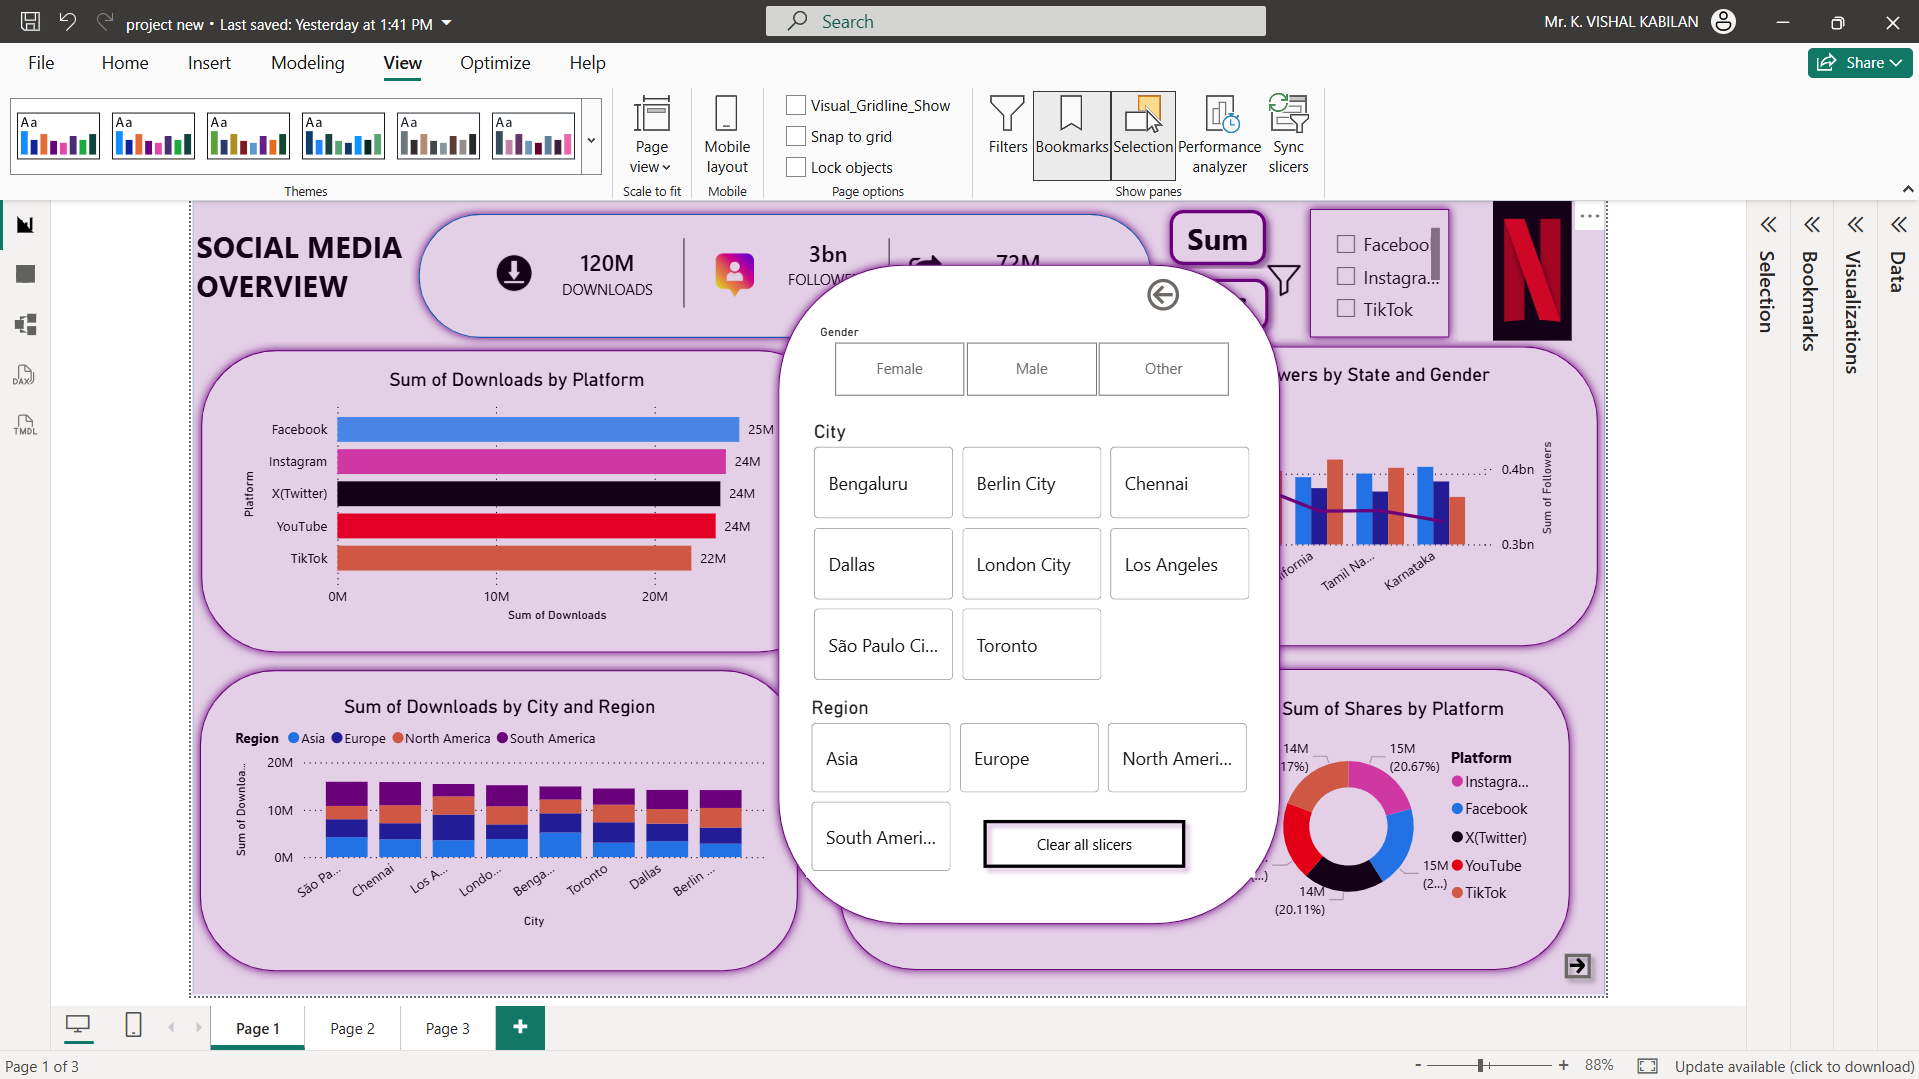

The dashboard page shown, as its layout file describes it:
{"tool":"powerbi","page":{"name":"Page 1","canvas":[1280,720],"ordinal":0},"visuals":[{"type":"shape","box":[1003.9,0,142.2,132.5],"z":0},{"type":"cardVisual","title":"sum card","fields":{"Data":["Sum(SocialMedia_Flat_Joined.Downloads)","Sum(SocialMedia_Flat_Joined.Followers)","Sum(SocialMedia_Flat_Joined.Shares)"]},"box":[242.7,18.1,591.2,96.2],"z":0,"group":"g2"},{"type":"shape","box":[0,417.1,557,288.4],"z":0,"group":"g1"},{"type":"shape","box":[198,4.2,679,128.3],"z":1000},{"type":"shape","box":[1.2,127.6,588.3,289.6],"z":1000,"group":"g1"},{"type":"barChart","fields":{"Category":["SocialMedia_Flat_Joined.Platform"],"Y":["Sum(SocialMedia_Flat_Joined.Downloads)"]},"box":[41.5,152.9,505.6,234],"z":1000,"group":"g2"},{"type":"group","id":"g1","title":"shapes","box":[0,124.1,1280,581.4],"z":2000},{"type":"shape","box":[578.8,416.2,676.3,288.4],"z":2000,"group":"g1"},{"type":"lineStackedColumnComboChart","fields":{"Y":["Sum(SocialMedia_Flat_Joined.Downloads)"],"Category":["SocialMedia_Flat_Joined.City"],"Series":["SocialMedia_Flat_Joined.Region"]},"box":[34.9,448.3,488.4,215.6],"z":2000,"group":"g2"},{"type":"textbox","box":[0,19.5,198,104.6],"z":3000},{"type":"shape","box":[611.1,124.1,668.9,287.3],"z":3000,"group":"g1"},{"type":"lineClusteredColumnComboChart","fields":{"Category":["SocialMedia_Flat_Joined.State"],"Series":["SocialMedia_Flat_Joined.Gender"],"Y2":["Sum(SocialMedia_Flat_Joined.Followers)"],"Y":["Sum(SocialMedia_Flat_Joined.Downloads)"]},"box":[650,148.1,588.4,238.4],"z":3000,"group":"g2"},{"type":"image","box":[1146.1,0,133.9,126.9],"z":4000},{"type":"pieChart","fields":{"Category":["SocialMedia_Flat_Joined.Platform"],"Y":["Sum(SocialMedia_Flat_Joined.Likes)"]},"box":[611.9,442.6,329.6,222.5],"z":4000,"group":"g2"},{"type":"donutChart","fields":{"Category":["SocialMedia_Flat_Joined.Platform"],"Y":["Sum(SocialMedia_Flat_Joined.Shares)"]},"box":[949.2,450,274.8,214.4],"z":5000,"group":"g2"},{"type":"group","id":"g2","title":"sum","box":[34.9,18.1,1203.5,647],"z":6000},{"type":"actionButton","box":[876.3,0,105.2,67.8],"z":8000},{"type":"actionButton","box":[876.3,62.2,107.4,65.6],"z":9000},{"type":"image","box":[973.5,57.7,30.5,30.5],"z":10000},{"type":"slicer","fields":{"Values":["SocialMedia_Flat_Joined.Platform"]},"box":[1023.4,20.9,111.5,93.4],"z":11000},{"type":"actionButton","box":[1233.3,673.1,41.6,40.3],"z":13000}]}

Visuals, with their boxes on the page's 1280x720 design canvas (x1, y1, x2, y2). These are canvas units, not pixel positions in the 1919x1079 screenshot, which may show the page scaled, cropped or inside an application window:
shape: (1004,0,1146,132)
"sum card" cardVisual: (243,18,834,114)
shape: (0,417,557,706)
shape: (198,4,877,132)
shape: (1,128,590,417)
barChart - SocialMedia_Flat_Joined.Platform x Sum(SocialMedia_Flat_Joined.Downloads): (42,153,547,387)
"shapes" group: (0,124,1280,706)
shape: (579,416,1255,705)
lineStackedColumnComboChart - Sum(SocialMedia_Flat_Joined.Downloads) x SocialMedia_Flat_Joined.City: (35,448,523,664)
textbox: (0,20,198,124)
shape: (611,124,1280,411)
lineClusteredColumnComboChart - SocialMedia_Flat_Joined.State x SocialMedia_Flat_Joined.Gender: (650,148,1238,386)
image: (1146,0,1280,127)
pieChart - SocialMedia_Flat_Joined.Platform x Sum(SocialMedia_Flat_Joined.Likes): (612,443,942,665)
donutChart - SocialMedia_Flat_Joined.Platform x Sum(SocialMedia_Flat_Joined.Shares): (949,450,1224,664)
"sum" group: (35,18,1238,665)
actionButton: (876,0,982,68)
actionButton: (876,62,984,128)
image: (974,58,1004,88)
slicer - SocialMedia_Flat_Joined.Platform: (1023,21,1135,114)
actionButton: (1233,673,1275,713)
